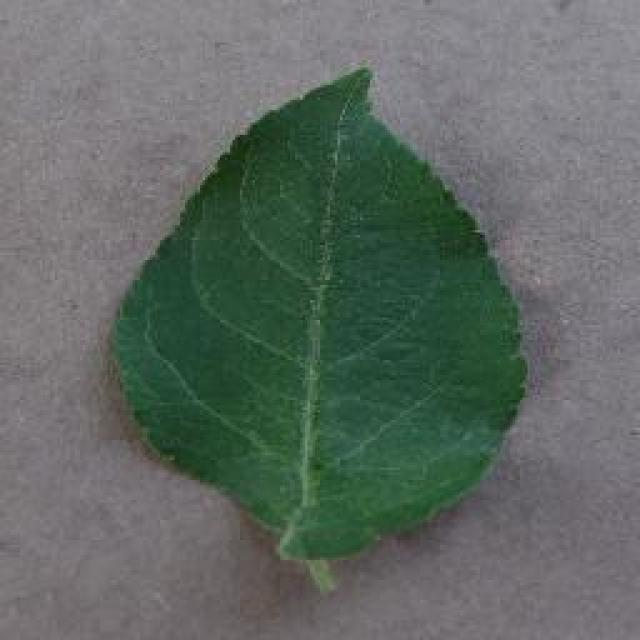apple healthy: (105, 62, 530, 592)
